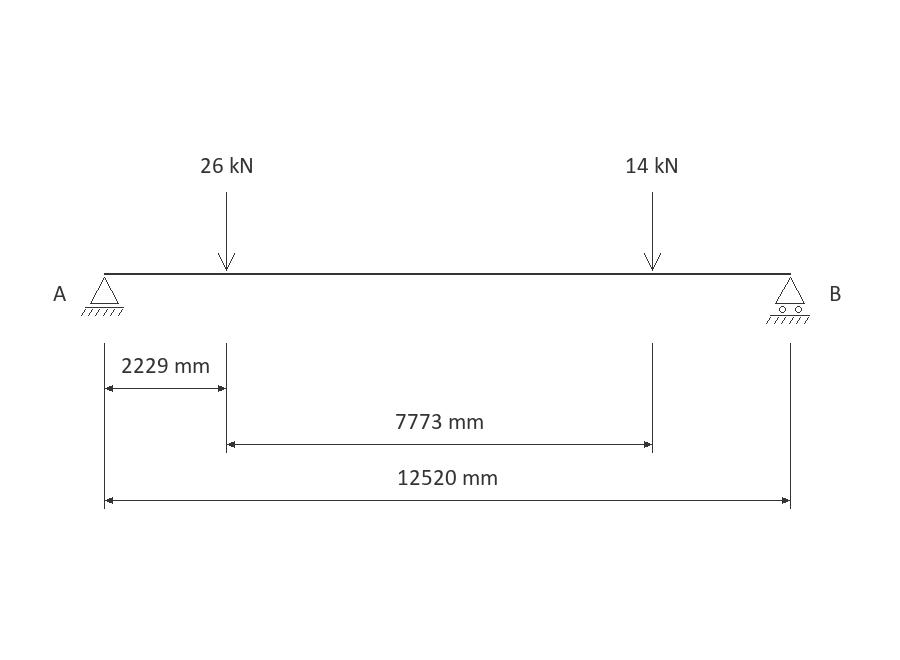pin_support: (81, 277, 124, 316)
point_load: (218, 192, 235, 271), (644, 192, 661, 271)
roller_support: (766, 277, 810, 324)
